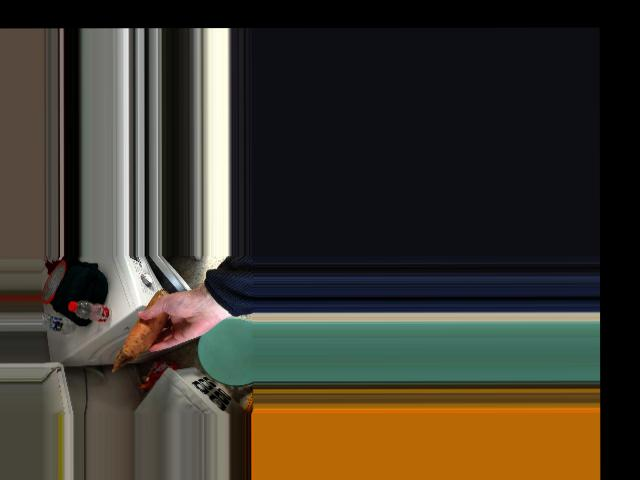sweet_potato: (132, 292, 177, 344)
